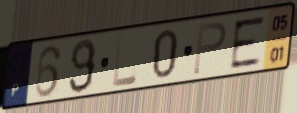0: (151, 27, 182, 81)
6: (34, 42, 64, 100)
9: (67, 37, 97, 96)
E: (229, 13, 267, 72)
L: (111, 32, 139, 90)
P: (191, 20, 228, 78)
